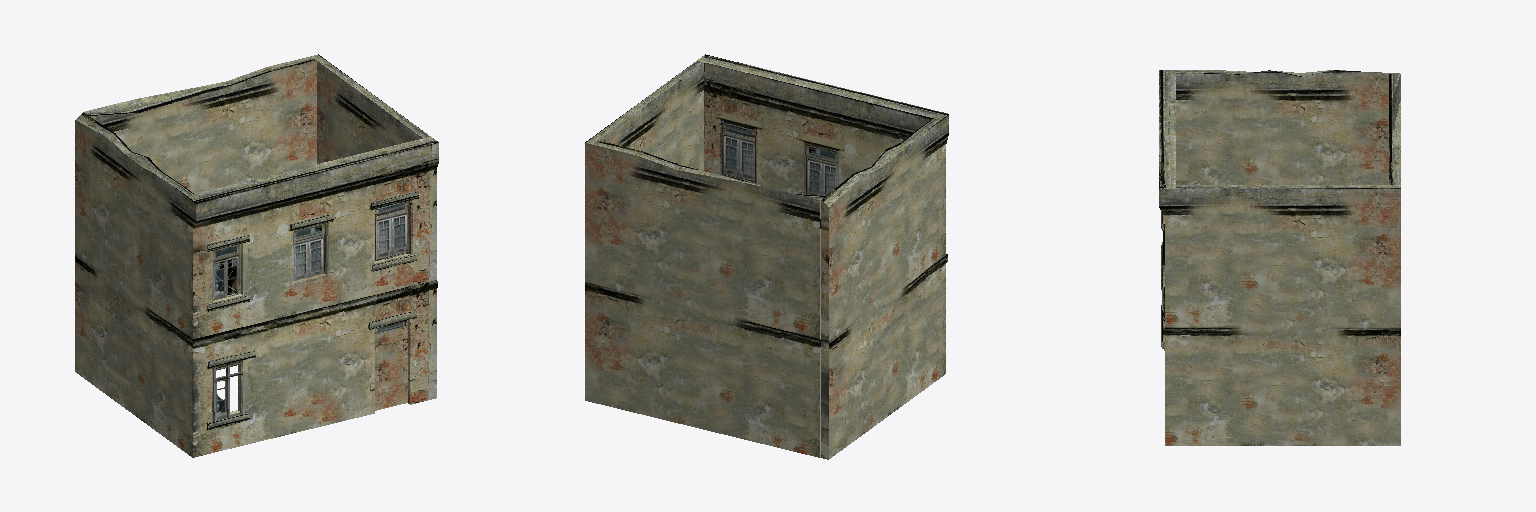
3 views of the same model, side by side, from view 1: azimuth 30°, elevation 25°; view 2: azimuth 150°, elevation 25°; view 3: azimuth 270°, elevation 25° (orthographic).
Parts seen in each view (by area): view 1: worn_torn10; view 2: worn_torn10; view 3: worn_torn10.
Part boxes in pixels (x1,y1,x2,y2): worn_torn10: (75,54,438,457); worn_torn10: (585,54,948,459); worn_torn10: (1159,70,1400,445).
Size of the model in its own units: 278 by 282 by 237.
Materials: 1 (1 with a texture image).